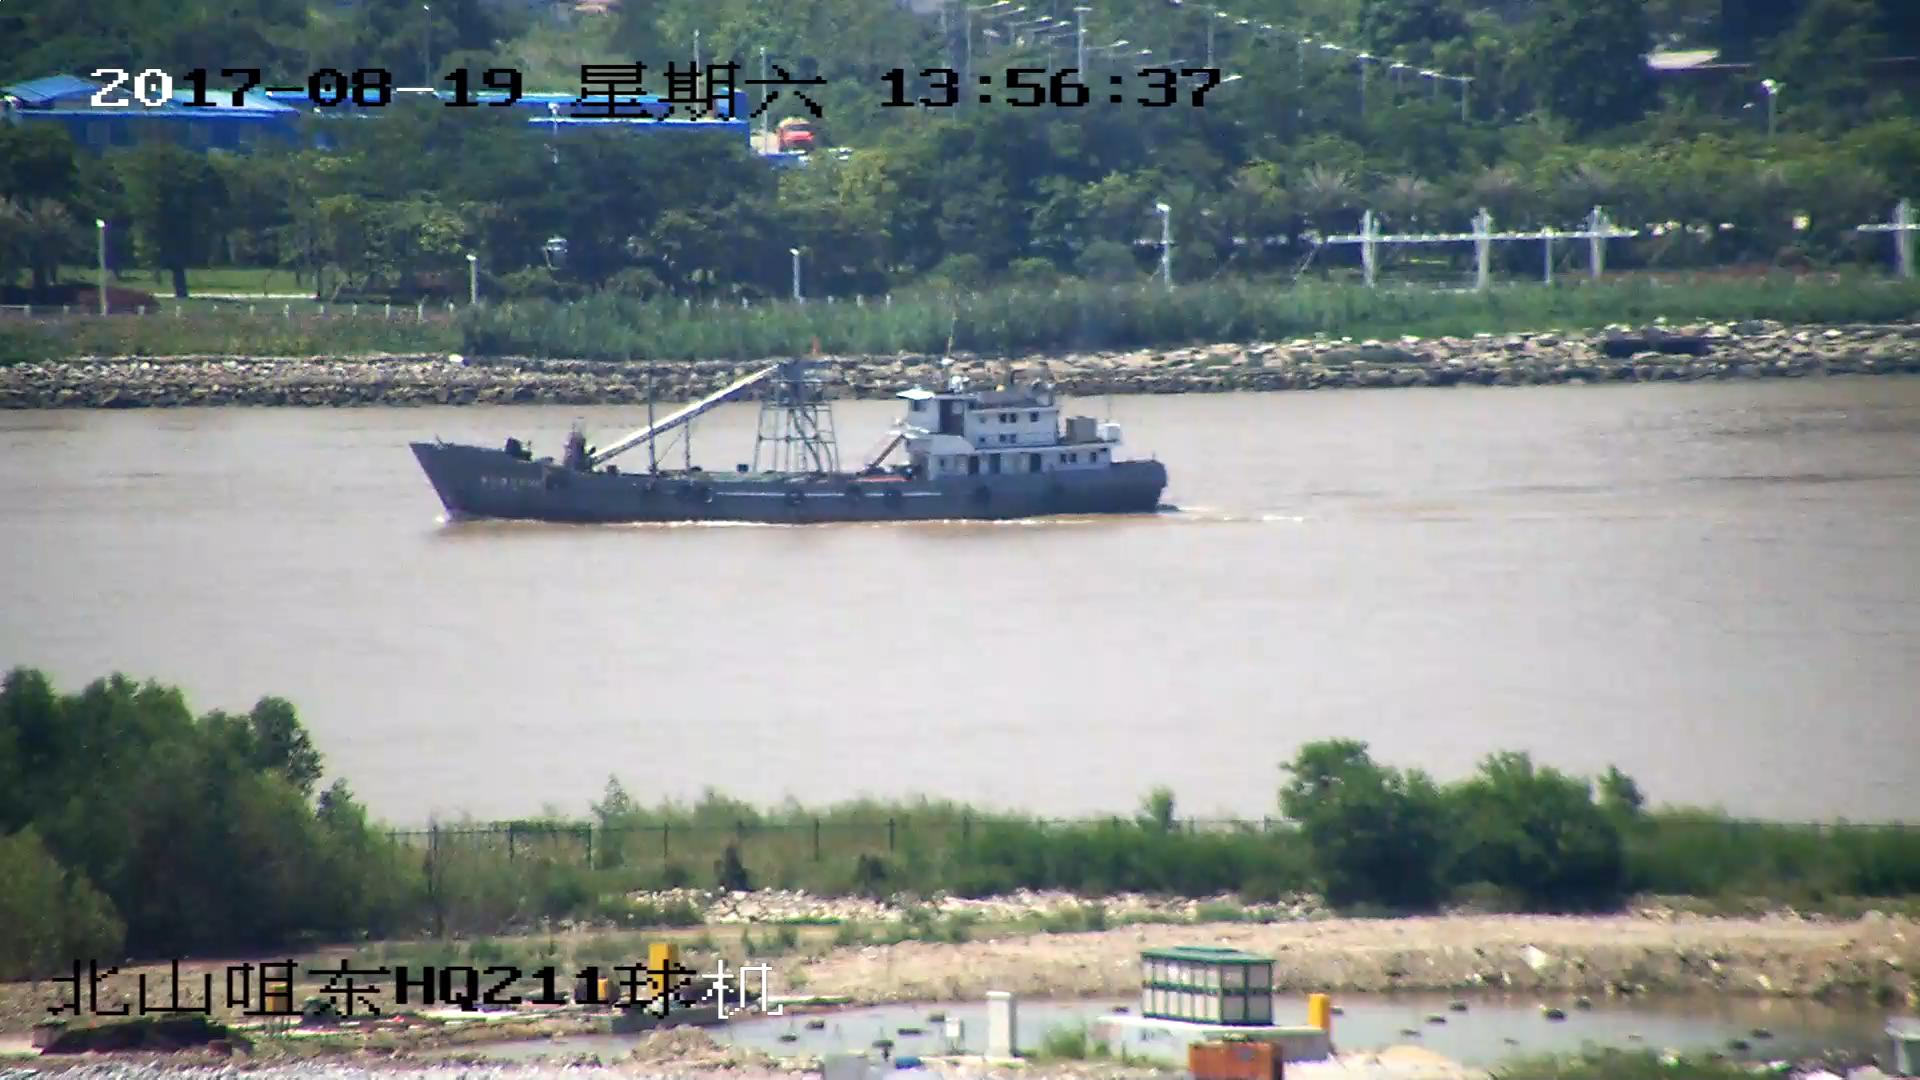fishing boat: (411, 354, 1167, 520)
